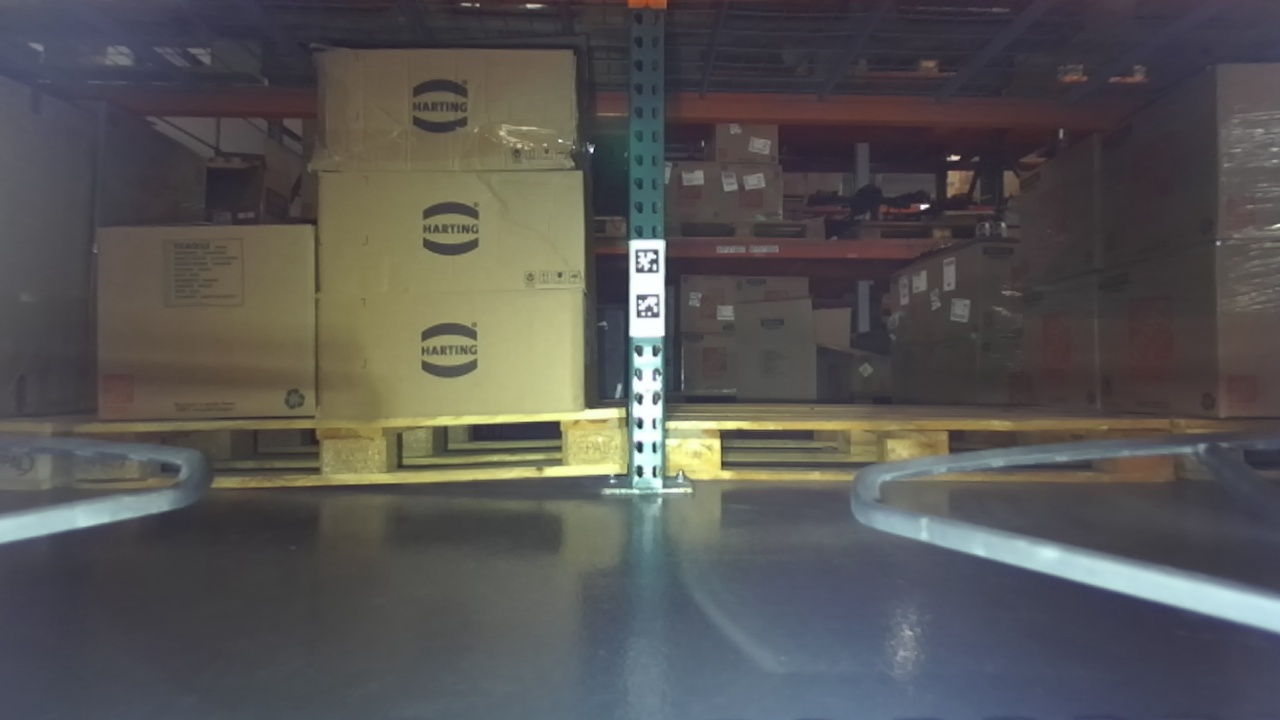box: (70, 217, 332, 427), (284, 22, 602, 185), (299, 277, 609, 434), (295, 154, 604, 296)
